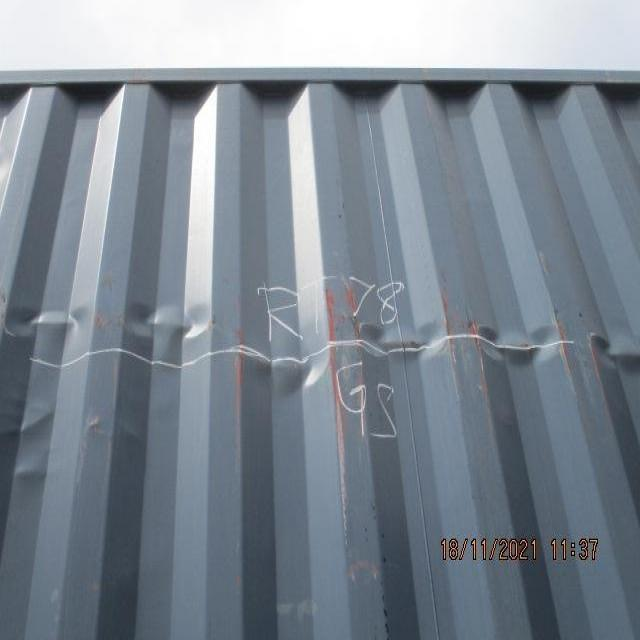dent: (1, 293, 640, 400), (1, 400, 60, 487)
